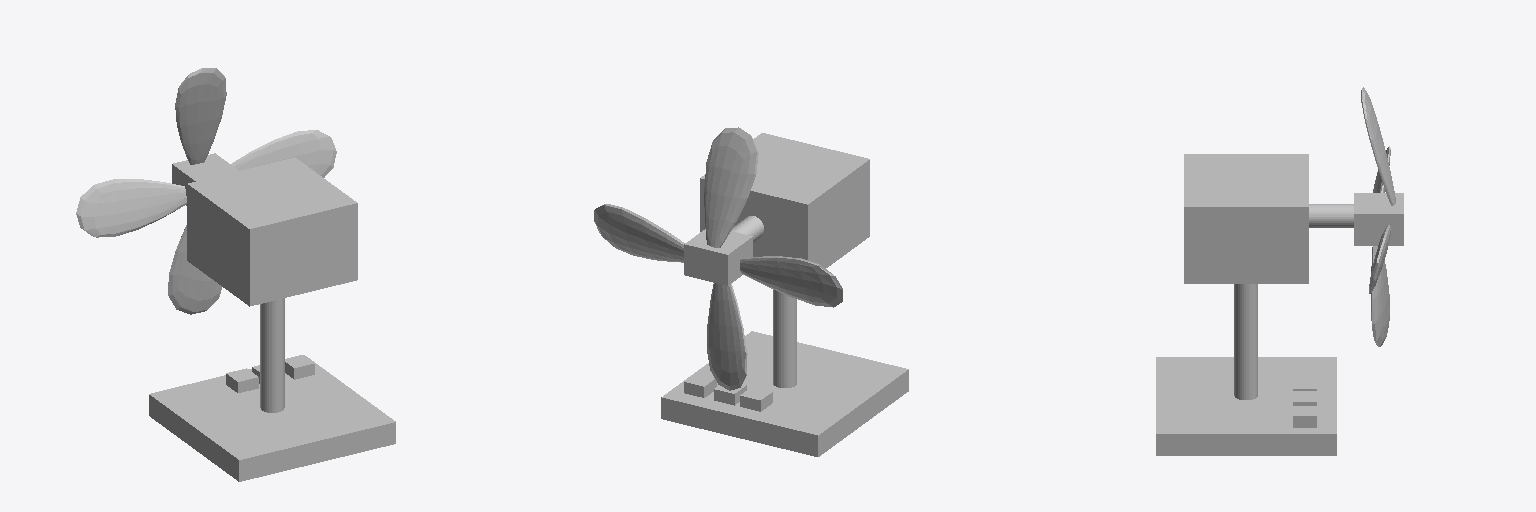
File: ventilador2.obj
The picture shows the model from 3 angles: view 1: azimuth 30°, elevation 25°; view 2: azimuth 150°, elevation 25°; view 3: azimuth 270°, elevation 25°; orthographic projection.
Visible parts, largest first — view 1: Cubo.003_Cubo, Cube, Plano.003, Plano.004, Cilindro, Plano.002, Plano.001, Cubo.004, Cubo.002_Cubo.003, Cubo_Cubo.001; view 2: Cube, Cubo.003_Cubo, Plano.004, Plano.003, Plano.001, Plano.002, Cubo.004, Cilindro, Cubo.002_Cubo.003, Cubo_Cubo.001; view 3: Cubo.003_Cubo, Cube, Cilindro, Cubo.004, Plano.004, Plano.001, Cilindro.002, Plano.002, Cubo_Cubo.001.
Part boxes in pixels (bbox=[...]): Cubo.003_Cubo: bbox=[187, 157, 357, 306]; Cube: bbox=[149, 356, 395, 481]; Plano.003: bbox=[76, 179, 186, 237]; Plano.004: bbox=[175, 68, 226, 164]; Cilindro: bbox=[260, 298, 284, 412]; Plano.002: bbox=[231, 130, 336, 177]; Plano.001: bbox=[168, 225, 221, 314]; Cubo.004: bbox=[172, 153, 238, 205]; Cubo.002_Cubo.003: bbox=[226, 368, 258, 392]; Cubo_Cubo.001: bbox=[285, 355, 314, 379]; Cube: bbox=[661, 331, 908, 456]; Cubo.003_Cubo: bbox=[700, 133, 869, 267]; Plano.004: bbox=[704, 127, 758, 247]; Plano.003: bbox=[740, 256, 842, 307]; Plano.001: bbox=[707, 283, 747, 390]; Plano.002: bbox=[594, 204, 684, 262]; Cubo.004: bbox=[684, 229, 752, 285]; Cilindro: bbox=[773, 289, 796, 387]; Cubo.002_Cubo.003: bbox=[740, 387, 772, 411]; Cubo_Cubo.001: bbox=[684, 373, 716, 397]; Cubo.003_Cubo: bbox=[1184, 154, 1308, 283]; Cube: bbox=[1156, 357, 1336, 455]; Cilindro: bbox=[1234, 284, 1257, 399]; Cubo.004: bbox=[1354, 193, 1403, 245]; Plano.004: bbox=[1361, 87, 1395, 205]; Plano.001: bbox=[1371, 246, 1389, 346]; Cilindro.002: bbox=[1309, 204, 1353, 227]; Plano.002: bbox=[1369, 225, 1390, 293]; Cubo_Cubo.001: bbox=[1293, 406, 1316, 427].
Size of the model in its own units: 0.2441 by 0.2949 by 0.2058.